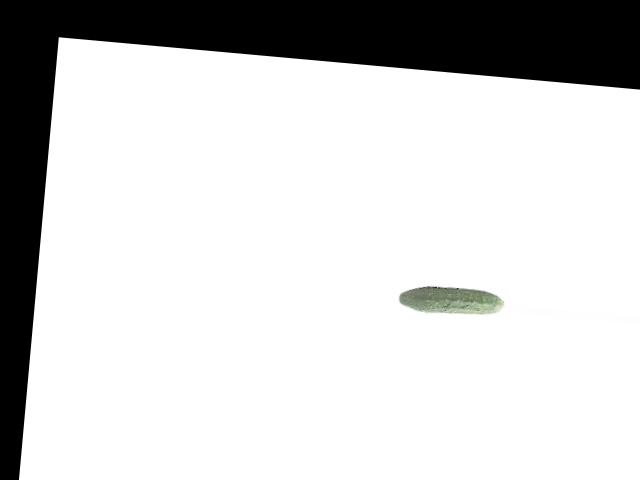cucumber: (397, 283, 505, 318)
